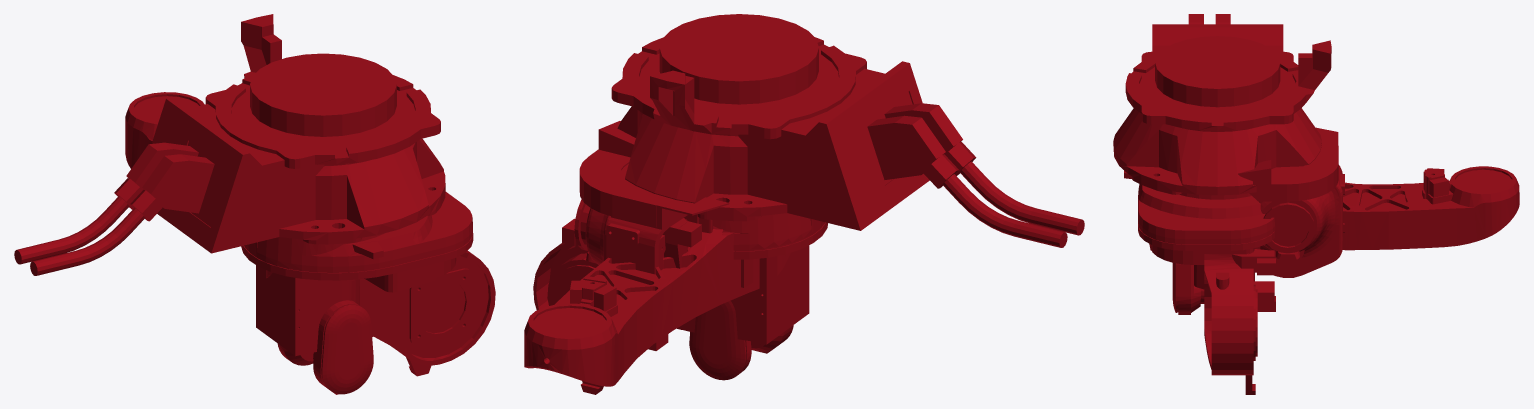
The model's file is comau_ns16hand.glb.
3 views of the same model, side by side, from view 1: azimuth 30°, elevation 25°; view 2: azimuth 150°, elevation 25°; view 3: azimuth 270°, elevation 25° (orthographic). The views are drawn at different scales.
Visible parts, largest first — view 1: base_link_bodies, Link_1_bodies, Link_4_bodies, Link_2_bodies; view 2: base_link_bodies, Link_2_bodies, Link_1_bodies, Link_3_bodies, Link_4_bodies; view 3: base_link_bodies, Link_1_bodies, Link_2_bodies, Link_3_bodies, Link_4_bodies.
Boxes of the visible parts, x1,y1,x2,y2 form: base_link_bodies: (14, 14, 445, 275); Link_1_bodies: (241, 192, 495, 376); Link_4_bodies: (277, 300, 373, 394); Link_2_bodies: (125, 92, 272, 278); base_link_bodies: (611, 14, 1084, 247); Link_2_bodies: (524, 214, 790, 386); Link_1_bodies: (533, 213, 827, 394); Link_3_bodies: (574, 121, 729, 274); Link_4_bodies: (689, 300, 793, 380); base_link_bodies: (1113, 14, 1331, 195); Link_1_bodies: (1124, 170, 1275, 394); Link_2_bodies: (1342, 166, 1519, 250); Link_3_bodies: (1238, 127, 1344, 277); Link_4_bodies: (1172, 263, 1254, 314).
Bounding box in the file's own units: 1.22 × 0.864 × 1.07.
